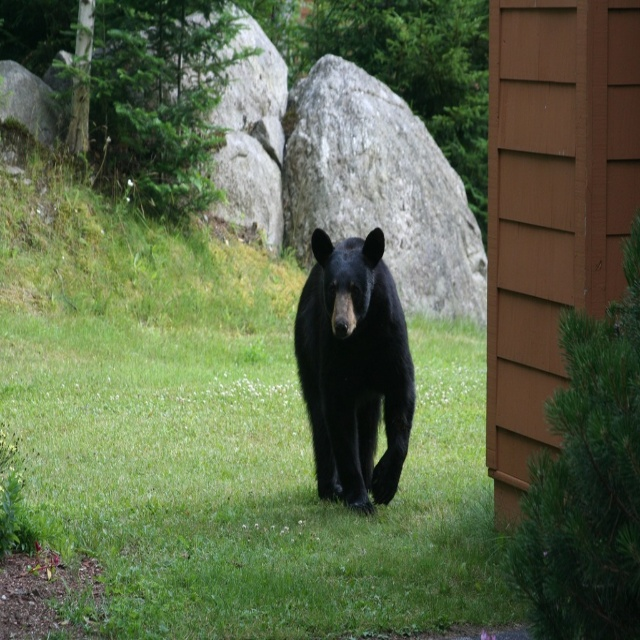Bear: (293, 227, 417, 518)
